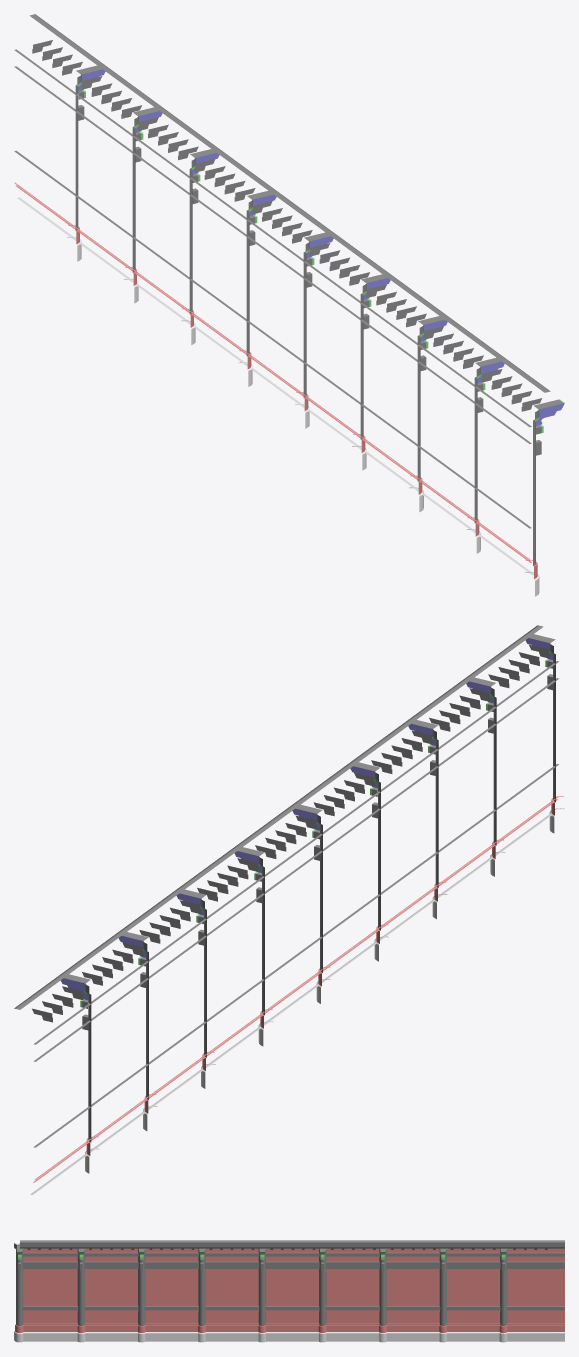
Rendered from SM_ENV_KNVLLG03_Bridge_StraightD_2.gltf.
3 renders of one model, top to bottom at view 1: azimuth 30°, elevation 25°; view 2: azimuth 150°, elevation 25°; view 3: azimuth 270°, elevation 25°, orthographic. The views are drawn at different scales.
Parts seen in each view (by area): view 1: SM_ENV_KNVLLG03_Bridge_StraightD_2; view 2: SM_ENV_KNVLLG03_Bridge_StraightD_2; view 3: SM_ENV_KNVLLG03_Bridge_StraightD_2.
Part boxes in pixels (x1,y1,x2,y2): SM_ENV_KNVLLG03_Bridge_StraightD_2: [14, 14, 564, 596]; SM_ENV_KNVLLG03_Bridge_StraightD_2: [14, 625, 564, 1195]; SM_ENV_KNVLLG03_Bridge_StraightD_2: [14, 1240, 564, 1342].
Bounding box in the file's own units: 1.08 × 6.2 × 29.84.
